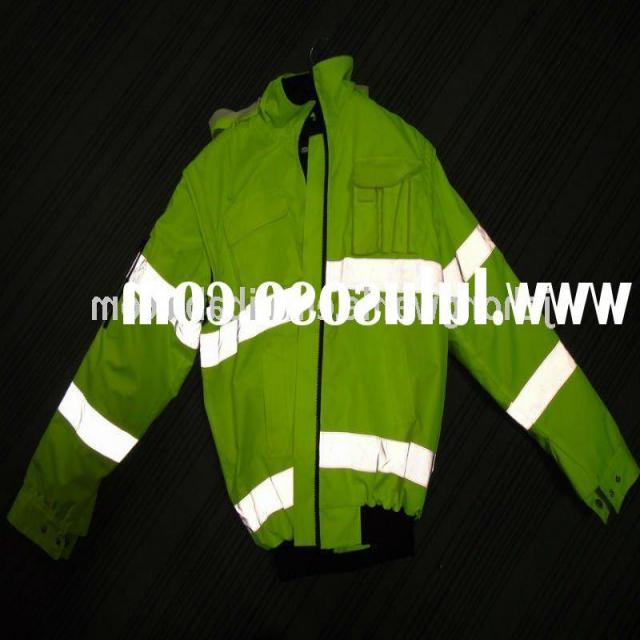Reflective-Jacket: (11, 51, 594, 569)
